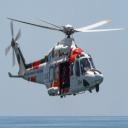helicopter: (7, 17, 121, 97)
